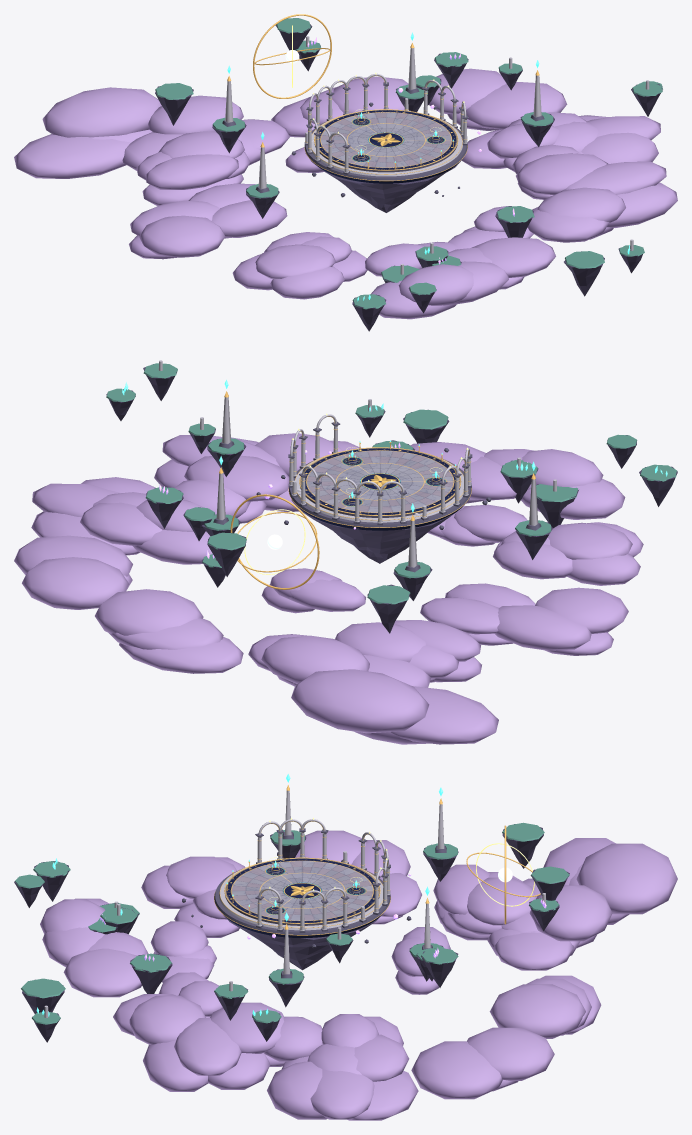
File: sanctuary.glb
3 renders of one model, top to bottom at view 1: azimuth 30°, elevation 25°; view 2: azimuth 150°, elevation 25°; view 3: azimuth 270°, elevation 25°, orthographic. The views are drawn at different scales.
Visible parts, largest first — view 1: static-cloud-noshadow-flat, static-rock-noshadow-flat, arena-floor, static-moss-noshadow-indexed, static-marble-shadow-indexed, static-marbleDark-shadow-indexed, static-marble-noshadow-indexed, static-gold-shadow-indexed, armillary-outer; view 2: static-cloud-noshadow-flat, static-rock-noshadow-flat, static-moss-noshadow-indexed, arena-floor, static-marble-shadow-indexed, static-marbleDark-shadow-indexed, static-marble-noshadow-indexed, static-gold-shadow-indexed, armillary-outer; view 3: static-cloud-noshadow-flat, static-rock-noshadow-flat, arena-floor, static-moss-noshadow-indexed, static-marble-shadow-indexed, static-marbleDark-shadow-indexed, static-marble-noshadow-indexed, static-gold-shadow-indexed.
Part boxes in pixels (x1,y1,x2,y2): static-cloud-noshadow-flat: (14,68,677,319); static-rock-noshadow-flat: (155,24,662,331); arena-floor: (315,110,457,169); static-moss-noshadow-indexed: (155,18,662,309); static-marble-shadow-indexed: (304,73,468,176); static-marbleDark-shadow-indexed: (304,82,467,180); static-marble-noshadow-indexed: (225,36,649,274); static-gold-shadow-indexed: (304,75,467,181); armillary-outer: (253,14,331,98); static-cloud-noshadow-flat: (14,433,643,744); static-rock-noshadow-flat: (106,364,677,633); static-moss-noshadow-indexed: (106,363,677,604); arena-floor: (300,448,460,515); static-marble-shadow-indexed: (289,414,471,523); static-marbleDark-shadow-indexed: (288,421,472,527); static-marble-noshadow-indexed: (158,360,556,567); static-gold-shadow-indexed: (288,416,471,527); armillary-outer: (230,494,319,589); static-cloud-noshadow-flat: (40,830,677,1120); static-rock-noshadow-flat: (14,824,569,1042); arena-floor: (225,858,379,923); static-moss-noshadow-indexed: (15,822,569,1024); static-marble-shadow-indexed: (219,819,391,931); static-marbleDark-shadow-indexed: (214,828,390,934); static-marble-noshadow-indexed: (44,790,546,1017); static-gold-shadow-indexed: (214,821,390,935).
Bounding box in the file's own units: 150 × 40.32 × 151.
Materials: 12 (1 with a texture image).
